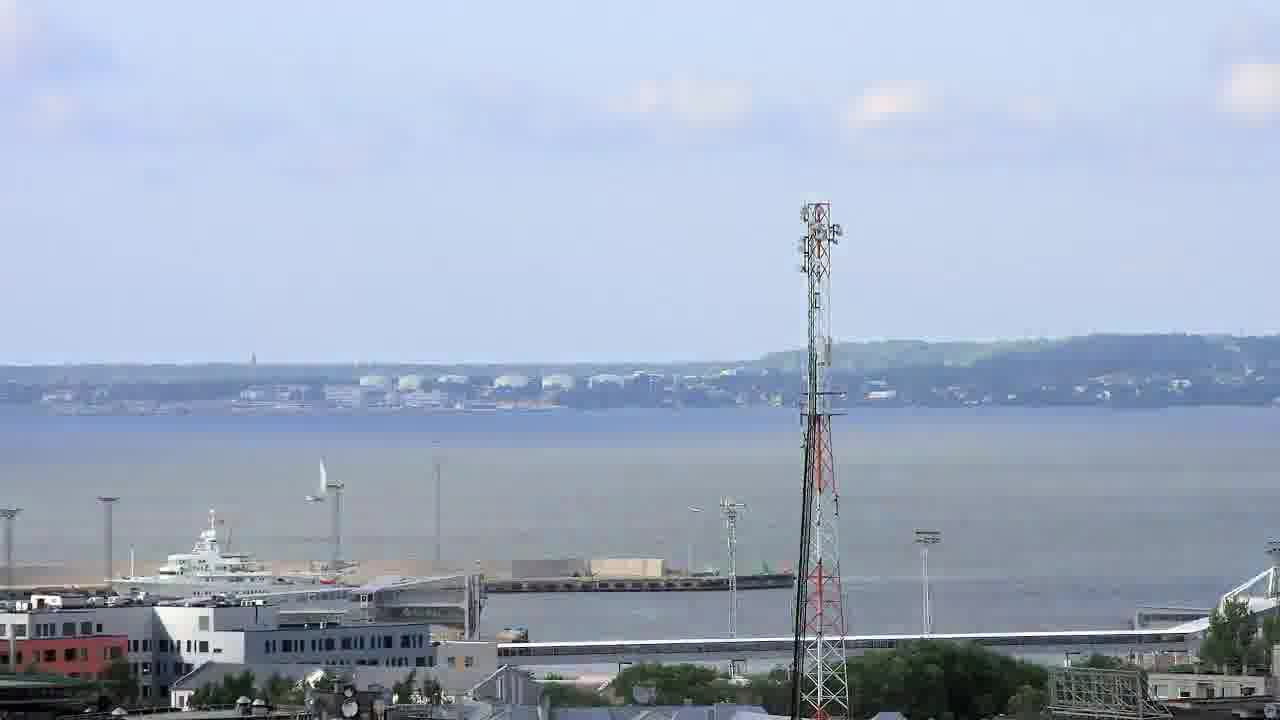type-2: (298, 450, 349, 512)
type-3: (84, 515, 355, 603)
